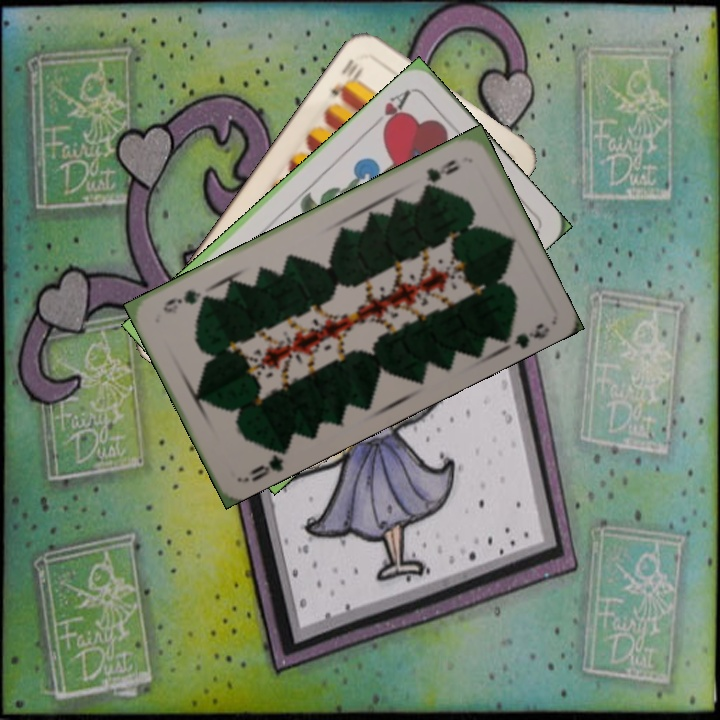E10: (327, 54, 366, 103)
G9: (240, 444, 290, 485), (419, 155, 463, 191)
HA: (378, 85, 414, 134)
